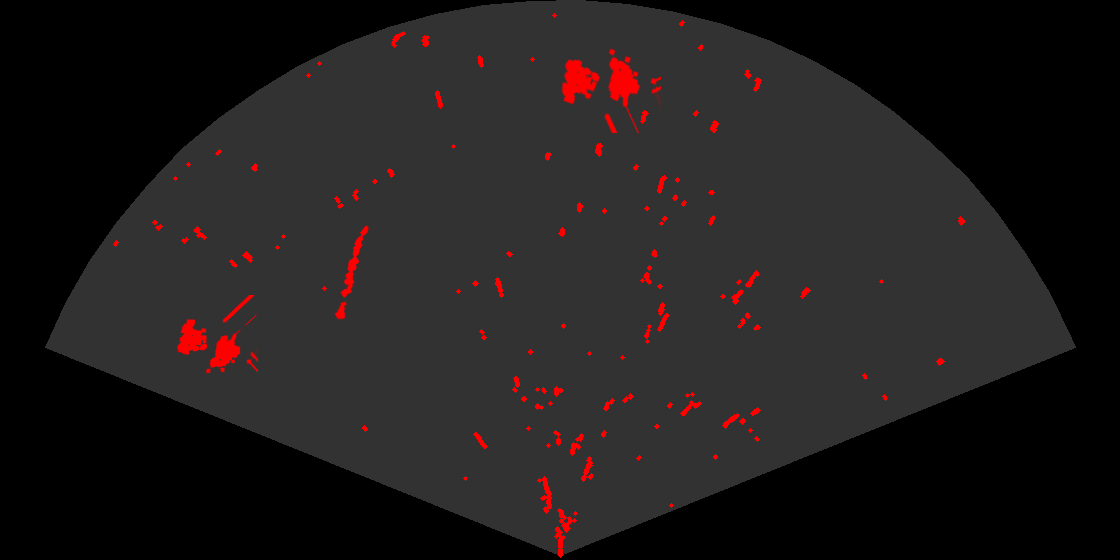cage: (560, 47, 661, 133), (176, 295, 258, 375)
chain: (333, 224, 370, 322)
